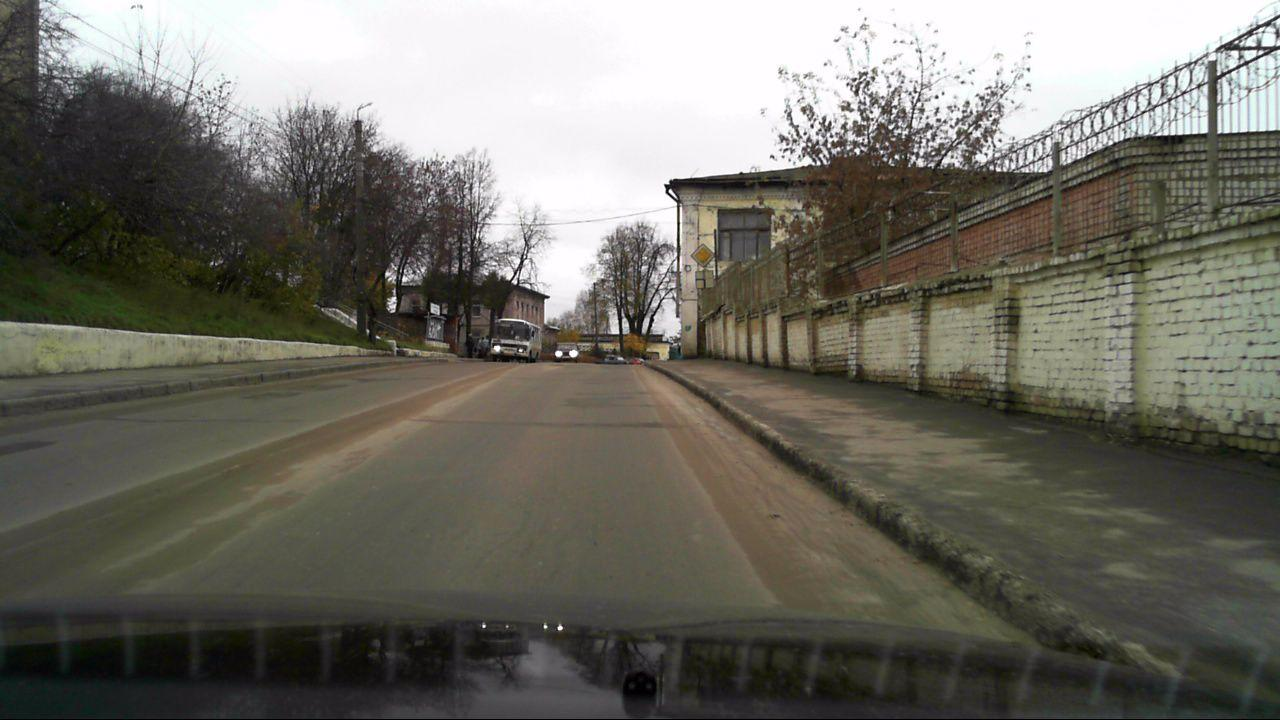road_sign: (687, 241, 717, 270)
